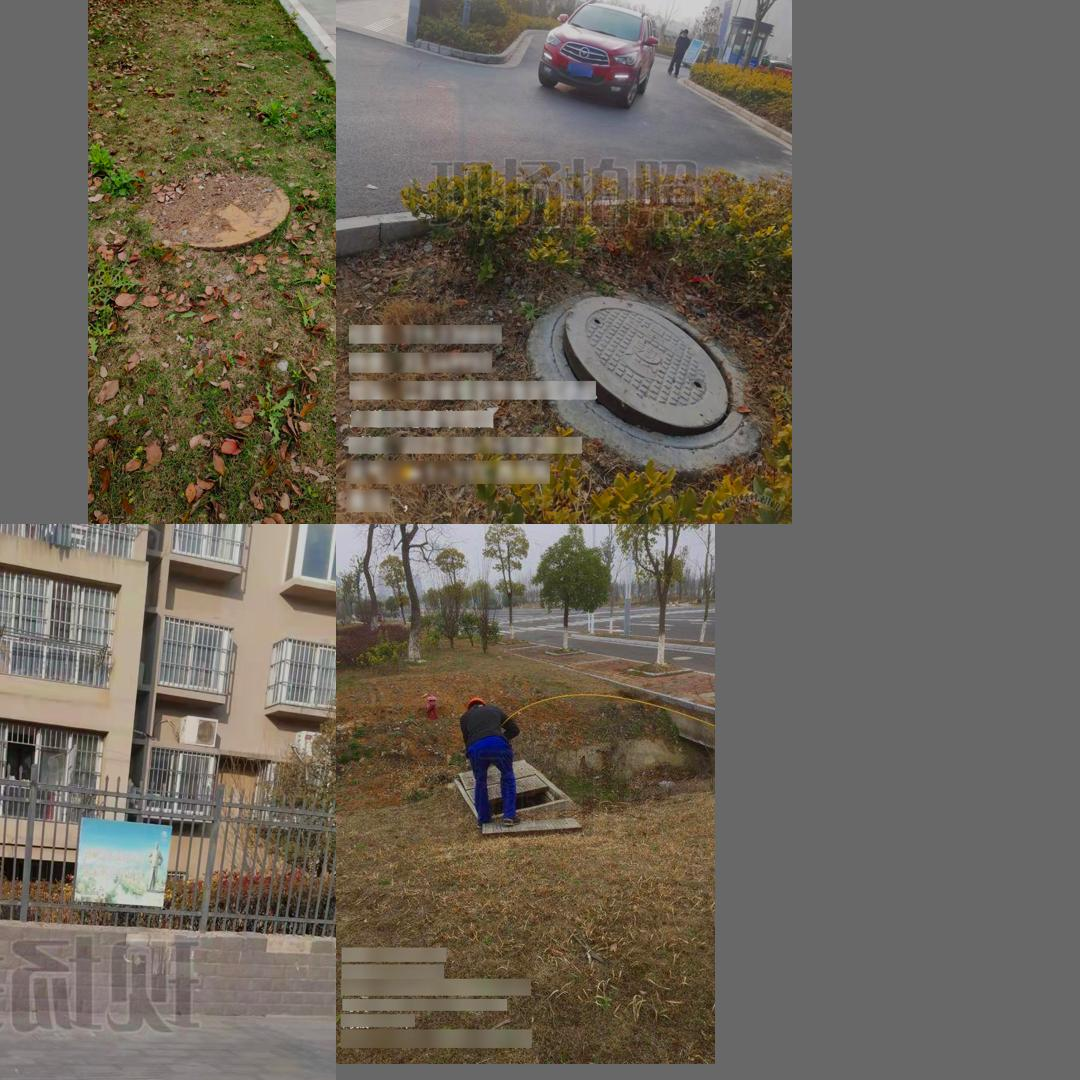uncovered: (546, 292, 745, 451), (144, 168, 288, 250), (453, 756, 580, 836)
